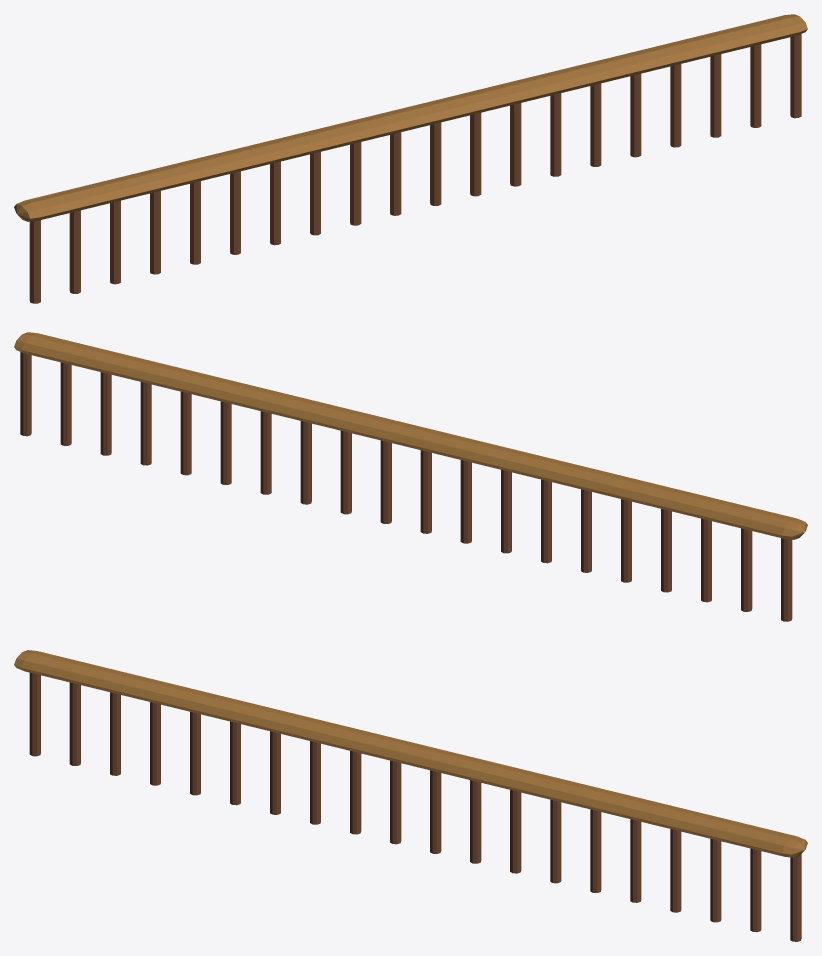
Rendered from Railing.fbx.
3 renders of one model, top to bottom at view 1: azimuth 30°, elevation 25°; view 2: azimuth 150°, elevation 25°; view 3: azimuth 330°, elevation 25°, orthographic.
Parts seen in each view (by area): view 1: Cylinder.001, Railing; view 2: Cylinder.001, Railing; view 3: Cylinder.001, Railing.
Part boxes in pixels (left/top/right/bottom): Cylinder.001: left=29, top=34, right=801, bottom=303; Railing: left=14, top=14, right=807, bottom=221; Cylinder.001: left=20, top=352, right=792, bottom=621; Railing: left=14, top=332, right=807, bottom=539; Cylinder.001: left=29, top=672, right=801, bottom=941; Railing: left=14, top=650, right=807, bottom=857.
Size of the model in its own units: 627 by 75.59 by 25.2.
